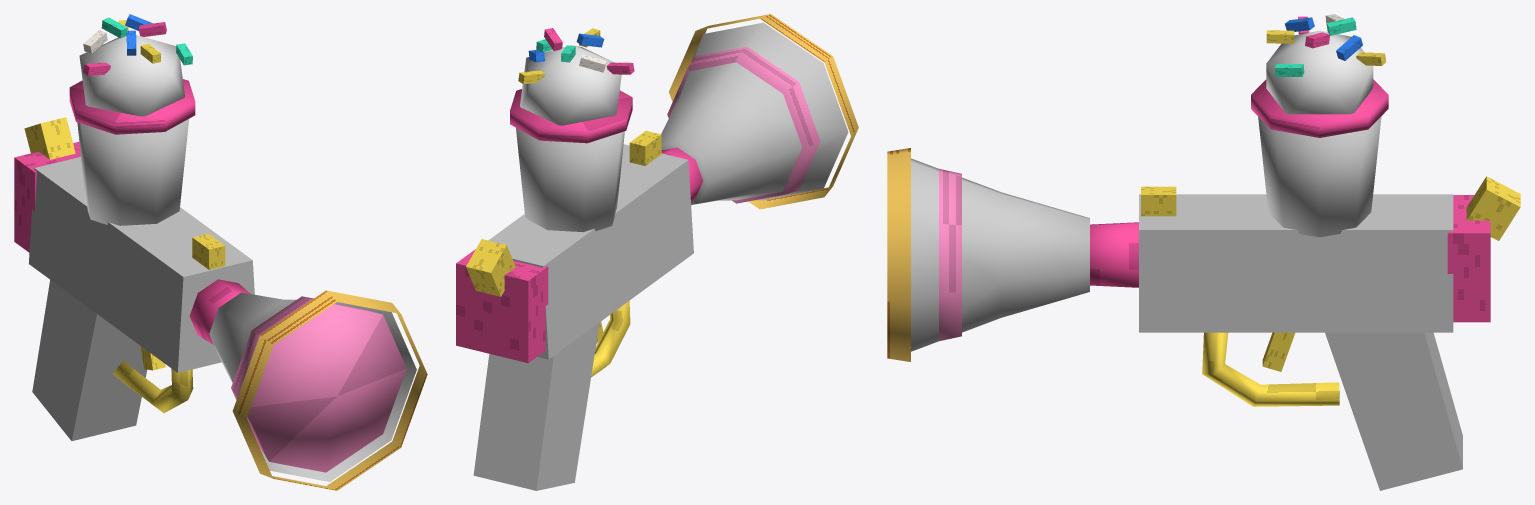
Rendered from Scoop Pistol.fbx.
3 renders of one model, left to right at view 1: azimuth 30°, elevation 25°; view 2: azimuth 150°, elevation 25°; view 3: azimuth 270°, elevation 25°, orthographic. The views are drawn at different scales.
Visible parts, largest first — view 1: Scoop Pistol body, Scoop Pistol loaded scoop, Scoop Pistol grip, Scoop Pistol pint tub, Scoop Pistol cone rim, Scoop Pistol waffle cone, Scoop Pistol choc scoop, Scoop Pistol tub rim, Scoop Pistol rear cap, Scoop Pistol guard, Scoop Pistol barrel, Scoop Pistol hammer.001 (+1 smaller); view 2: Scoop Pistol waffle cone, Scoop Pistol body, Scoop Pistol grip, Scoop Pistol pint tub, Scoop Pistol rear cap, Scoop Pistol choc scoop, Scoop Pistol loaded scoop, Scoop Pistol cone rim, Scoop Pistol tub rim, Scoop Pistol hammer.001, Scoop Pistol guard, Scoop Pistol sight (+1 smaller); view 3: Scoop Pistol body, Scoop Pistol waffle cone, Scoop Pistol grip, Scoop Pistol pint tub, Scoop Pistol choc scoop, Scoop Pistol cone rim, Scoop Pistol rear cap, Scoop Pistol guard, Scoop Pistol loaded scoop, Scoop Pistol tub rim, Scoop Pistol barrel, Scoop Pistol hammer.001 (+2 smaller).
Part boxes in pixels (<box>): Scoop Pistol body: <box>29,157,254,372</box>; Scoop Pistol loaded scoop: <box>231,296,406,472</box>; Scoop Pistol grip: <box>32,280,147,440</box>; Scoop Pistol pint tub: <box>77,119,189,225</box>; Scoop Pistol cone rim: <box>232,290,427,490</box>; Scoop Pistol waffle cone: <box>209,292,416,481</box>; Scoop Pistol choc scoop: <box>79,35,184,116</box>; Scoop Pistol tub rim: <box>69,79,195,134</box>; Scoop Pistol rear cap: <box>14,141,80,252</box>; Scoop Pistol guard: <box>113,360,193,412</box>; Scoop Pistol barrel: <box>189,279,250,344</box>; Scoop Pistol hammer.001: <box>24,117,75,159</box>; Scoop Pistol waffle cone: <box>661,22,848,204</box>; Scoop Pistol body: <box>488,144,693,359</box>; Scoop Pistol grip: <box>473,322,599,490</box>; Scoop Pistol pint tub: <box>516,128,624,232</box>; Scoop Pistol rear cap: <box>456,249,548,363</box>; Scoop Pistol choc scoop: <box>520,45,621,125</box>; Scoop Pistol loaded scoop: <box>667,46,820,203</box>; Scoop Pistol cone rim: <box>669,14,858,209</box>; Scoop Pistol tub rim: <box>510,89,632,143</box>; Scoop Pistol hammer.001: <box>466,239,515,296</box>; Scoop Pistol guard: <box>591,301,630,377</box>; Scoop Pistol sight: <box>629,130,661,165</box>; Scoop Pistol body: <box>1139,194,1453,332</box>; Scoop Pistol waffle cone: <box>911,158,1089,351</box>; Scoop Pistol grip: <box>1325,332,1462,490</box>; Scoop Pistol pint tub: <box>1258,116,1381,237</box>; Scoop Pistol choc scoop: <box>1266,30,1373,114</box>; Scoop Pistol cone rim: <box>887,148,910,361</box>; Scoop Pistol rear cap: <box>1447,195,1490,322</box>; Scoop Pistol guard: <box>1202,332,1339,406</box>; Scoop Pistol loaded scoop: <box>939,169,961,341</box>; Scoop Pistol tub rim: <box>1251,79,1388,137</box>; Scoop Pistol barrel: <box>1090,222,1138,287</box>; Scoop Pistol hammer.001: <box>1466,176,1520,240</box>.
Bounding box in the file's own units: 0.116 × 0.2539 × 0.3222.
